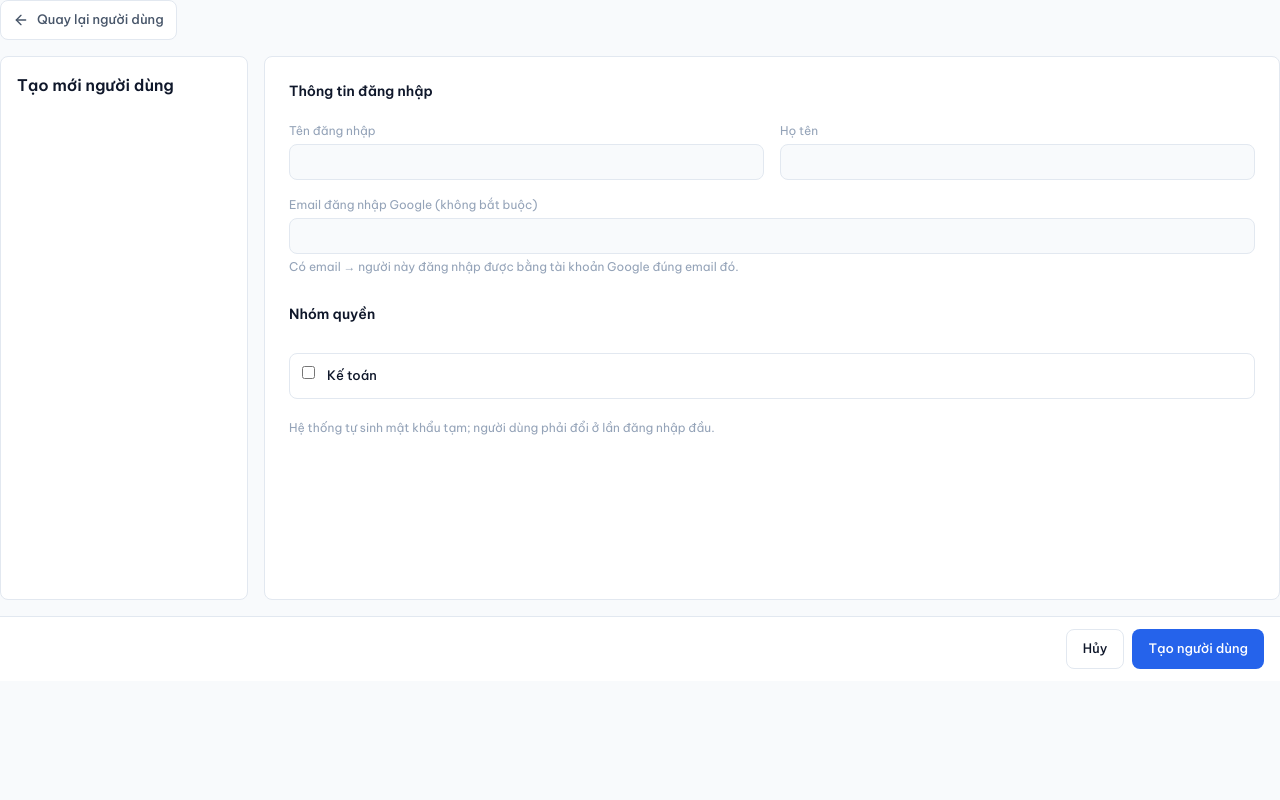
Scenario: NewUserForm — email › sai định dạng → lỗi tại ô, không gọi API
Type "lan.tran" into the field labelled "Tên đăng nhập". click: (526, 162)
box: [289,144,764,180]
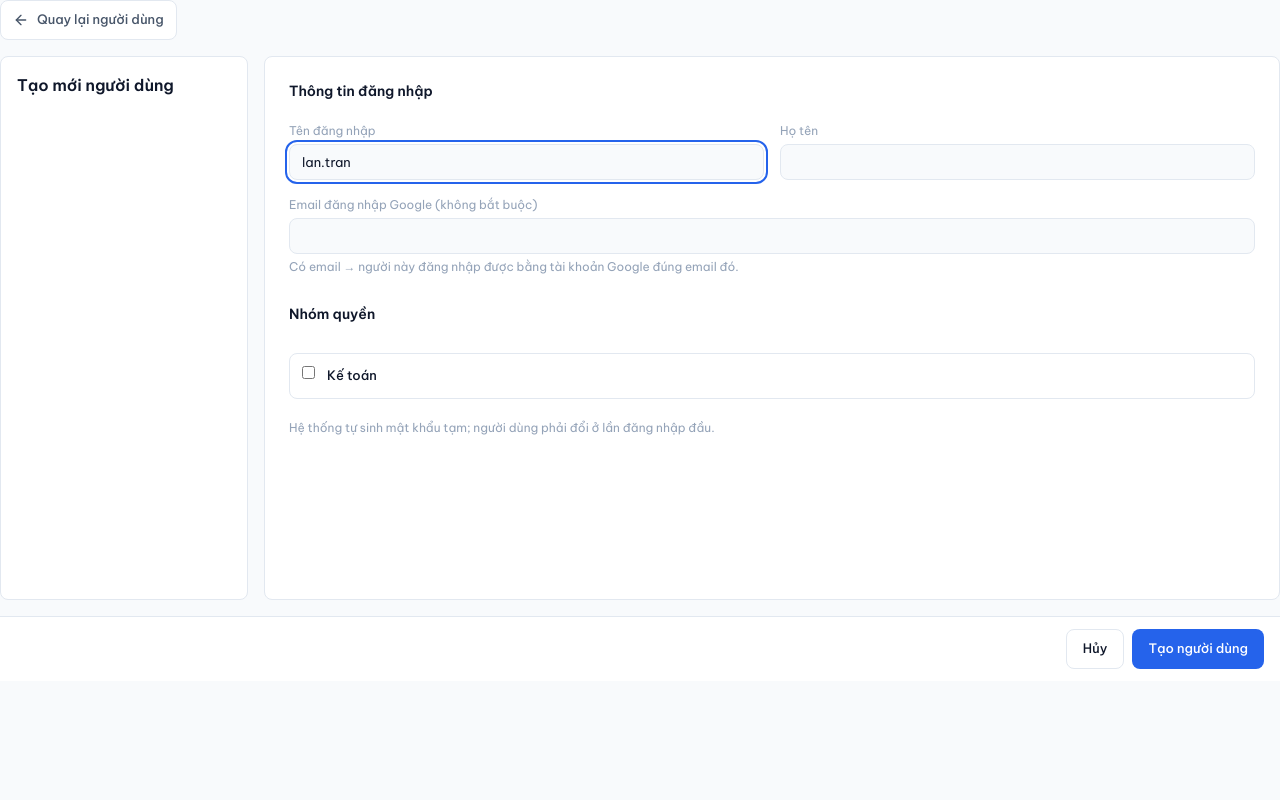
Type "Trần Thị Lan" into the field labelled "Họ tên". click: (1018, 162)
box: [780,144,1255,180]
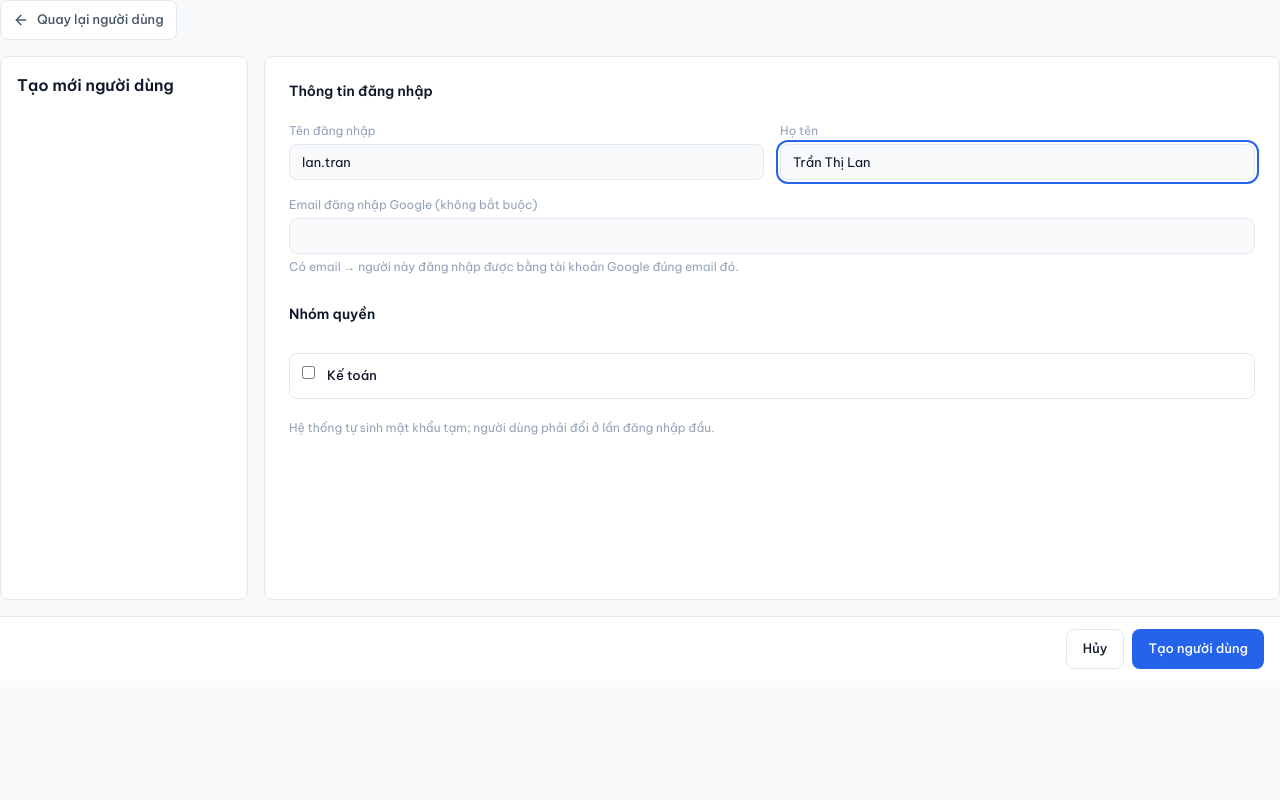
Type "abc" into the field labelled "Email đăng nhập Google (không bắt buộc)". click: (772, 236)
box: [289,218,1255,254]
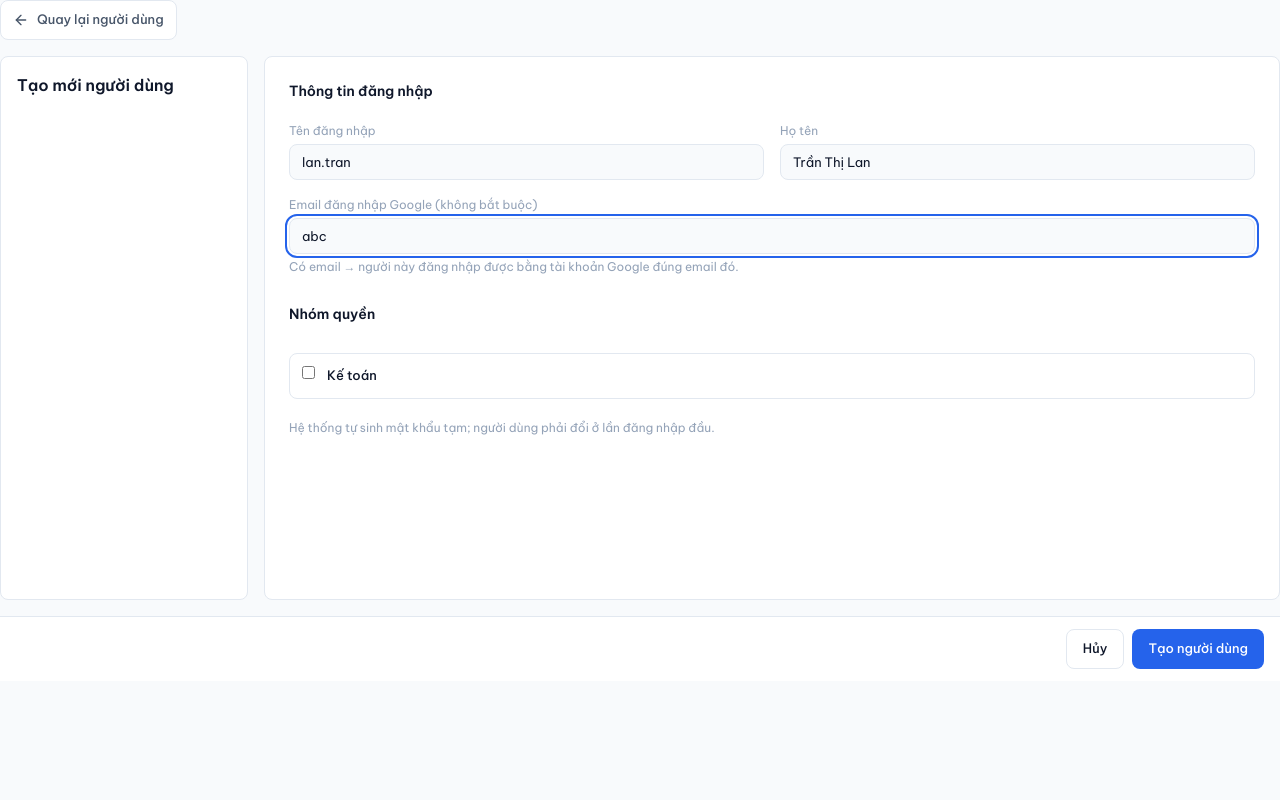
Click the checkbox labelled "Kế toán". click: click(308, 372)
box: [302,366,315,379]
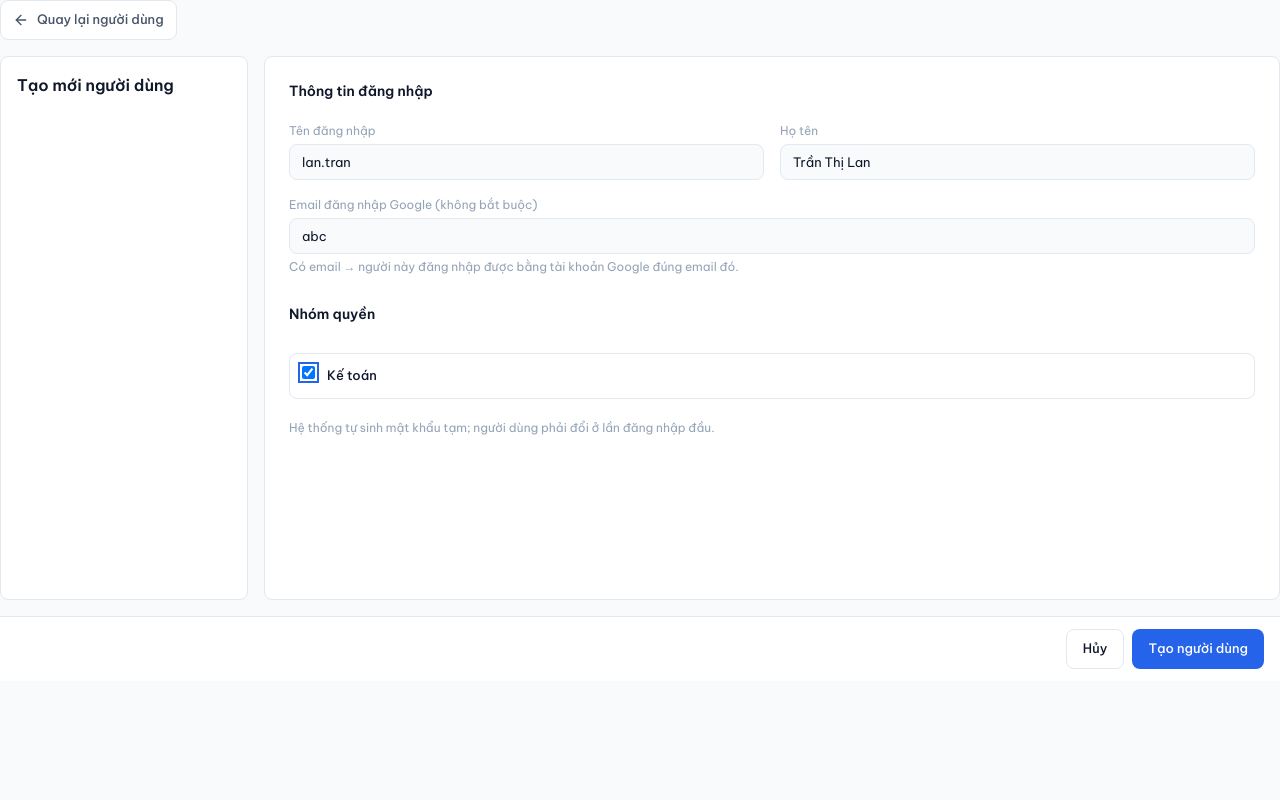
Click the button "Tạo người dùng". click: click(1198, 649)
box: [1132,629,1264,669]
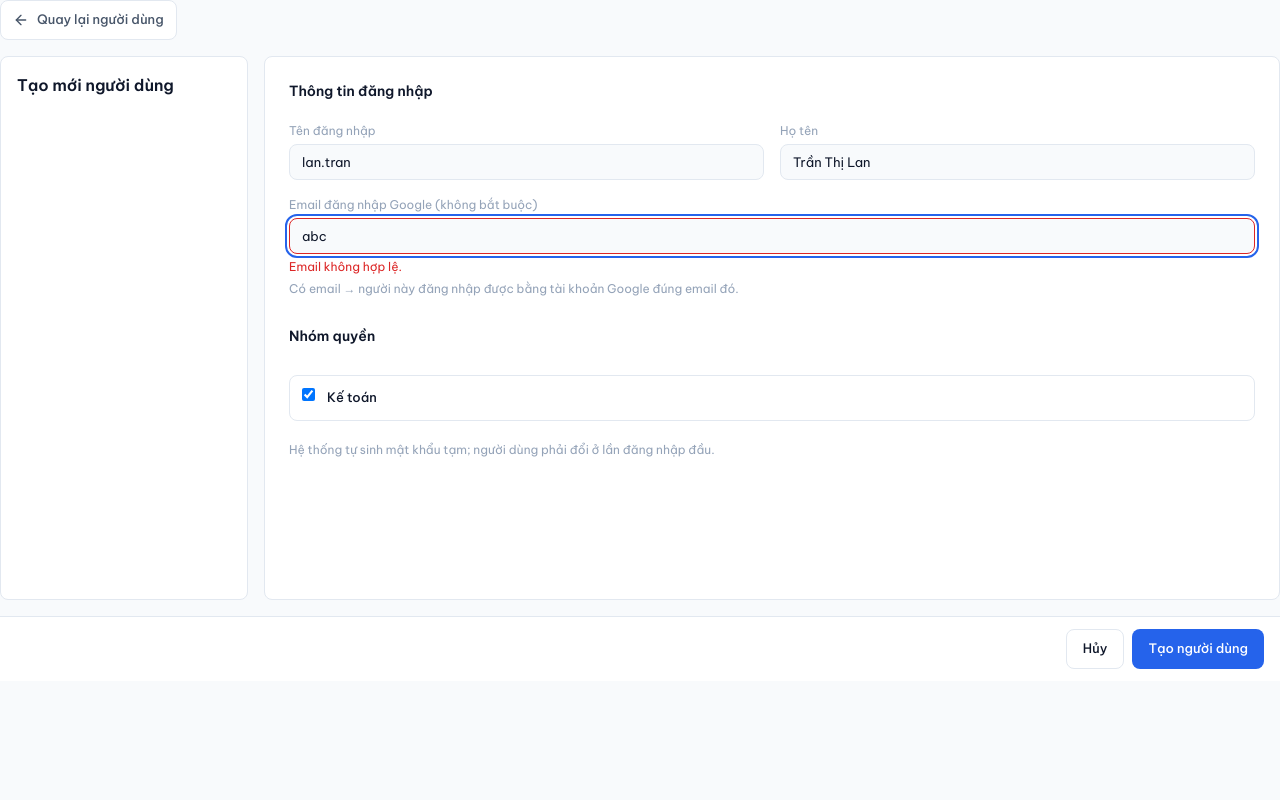
Result: the text "Email không hợp lệ." is shown at [289,259,402,274]
